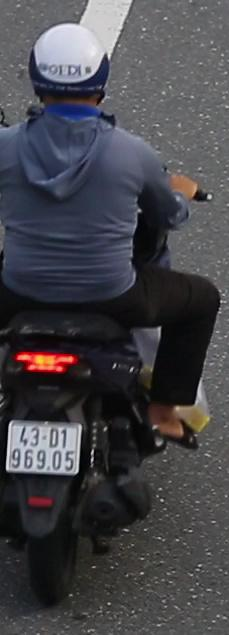LP: (1, 412, 83, 490)
helmet: (21, 20, 113, 112)
